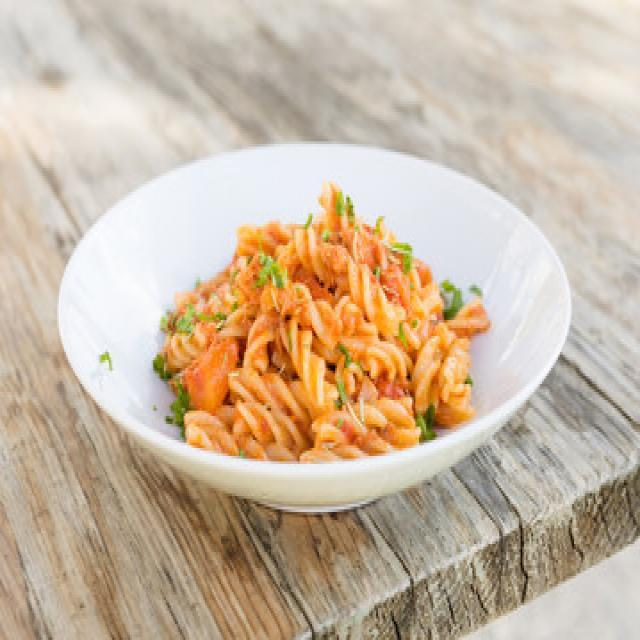Pasta al ragu: (112, 173, 534, 535)
